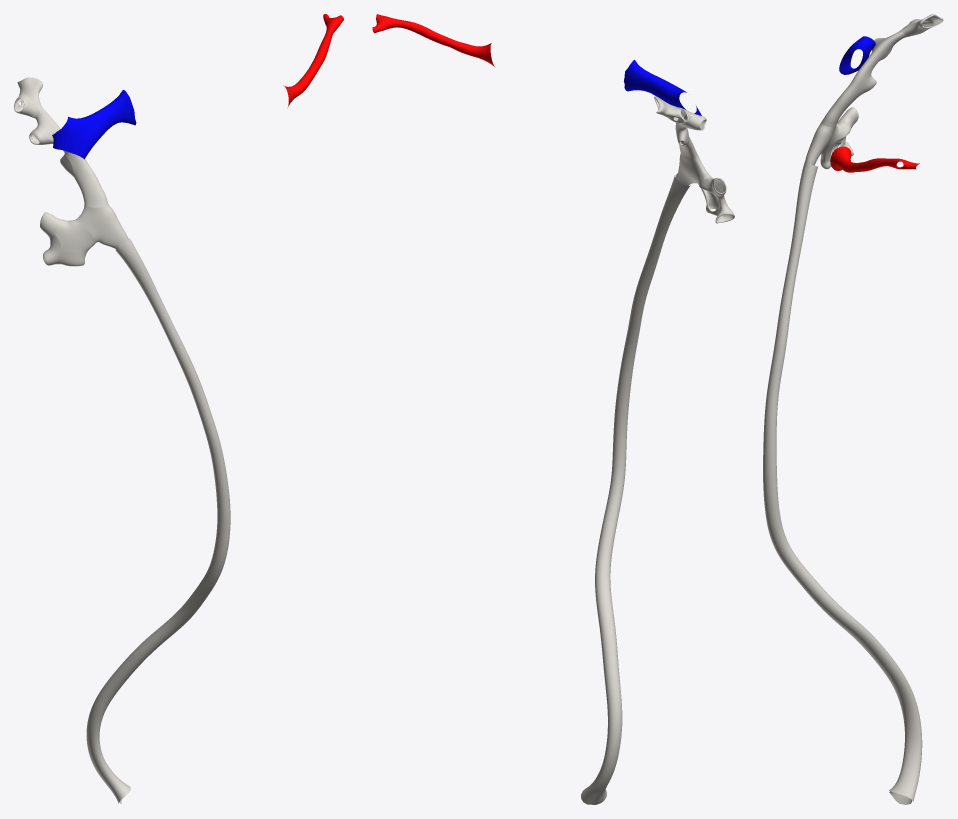
Rendered from VH_M_Kidney_R_Landmarks.glb.
The picture shows the model from 3 angles, left to right: view 1: azimuth 30°, elevation 25°; view 2: azimuth 150°, elevation 25°; view 3: azimuth 270°, elevation 25°; orthographic projection. The views are drawn at different scales.
Visible parts, largest first — view 1: VH_M_kidney_R_landmark_ureter, VH_M_kidney_R_landmark_major_calyxes, VH_M_kidney_R_landmark_renal_vein, VH_M_kidney_R_landmark_minor_calyxes, VH_M_kidney_R_landmark_renal_pelvis, VH_M_kidney_R_landmark_renal_artery; view 2: VH_M_kidney_R_landmark_ureter, VH_M_kidney_R_landmark_minor_calyxes, VH_M_kidney_R_landmark_renal_artery, VH_M_kidney_R_landmark_renal_vein, VH_M_kidney_R_landmark_major_calyxes; view 3: VH_M_kidney_R_landmark_ureter, VH_M_kidney_R_landmark_major_calyxes, VH_M_kidney_R_landmark_minor_calyxes, VH_M_kidney_R_landmark_renal_artery, VH_M_kidney_R_landmark_renal_pelvis, VH_M_kidney_R_landmark_renal_vein.
Boxes of the visible parts, <box> form: VH_M_kidney_R_landmark_ureter: <box>86,238,230,803</box>; VH_M_kidney_R_landmark_major_calyxes: <box>34,107,108,256</box>; VH_M_kidney_R_landmark_renal_vein: <box>52,90,136,159</box>; VH_M_kidney_R_landmark_minor_calyxes: <box>14,77,85,266</box>; VH_M_kidney_R_landmark_renal_pelvis: <box>76,205,128,249</box>; VH_M_kidney_R_landmark_renal_artery: <box>283,14,343,106</box>; VH_M_kidney_R_landmark_ureter: <box>581,173,690,804</box>; VH_M_kidney_R_landmark_minor_calyxes: <box>654,96,734,223</box>; VH_M_kidney_R_landmark_renal_artery: <box>372,14,495,67</box>; VH_M_kidney_R_landmark_renal_vein: <box>624,60,701,115</box>; VH_M_kidney_R_landmark_major_calyxes: <box>675,107,722,201</box>; VH_M_kidney_R_landmark_ureter: <box>763,162,922,804</box>; VH_M_kidney_R_landmark_major_calyxes: <box>820,31,906,161</box>; VH_M_kidney_R_landmark_minor_calyxes: <box>820,14,943,169</box>; VH_M_kidney_R_landmark_renal_artery: <box>830,146,919,172</box>; VH_M_kidney_R_landmark_renal_pelvis: <box>804,122,838,165</box>; VH_M_kidney_R_landmark_renal_vein: <box>839,36,875,74</box>.
Bounding box in the file's own units: 0.1263 × 0.2701 × 0.0588.
